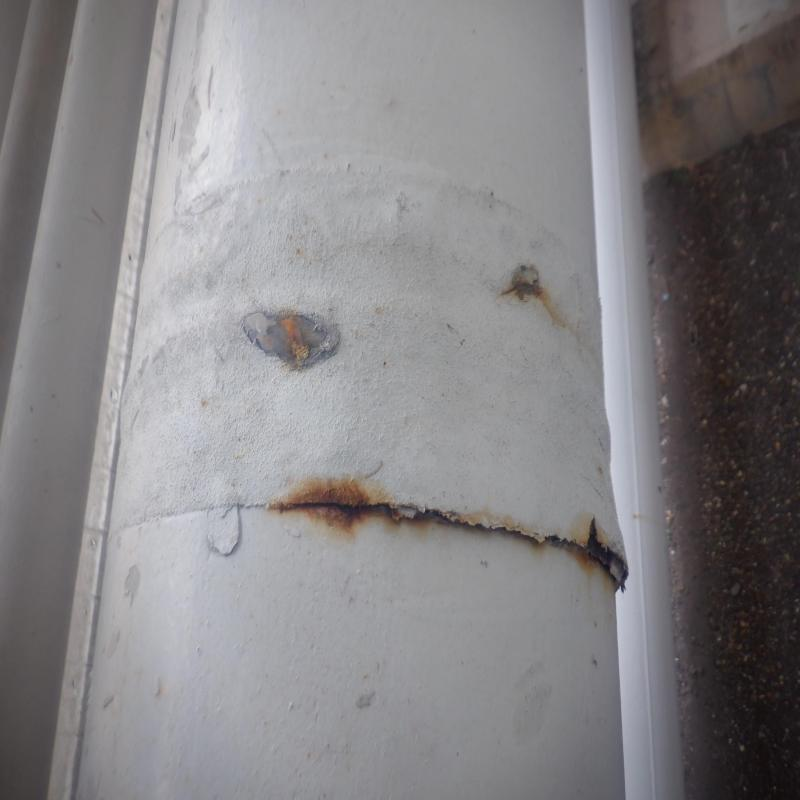Fracture: (272, 484, 626, 559)
corrosion: (507, 268, 557, 311)
